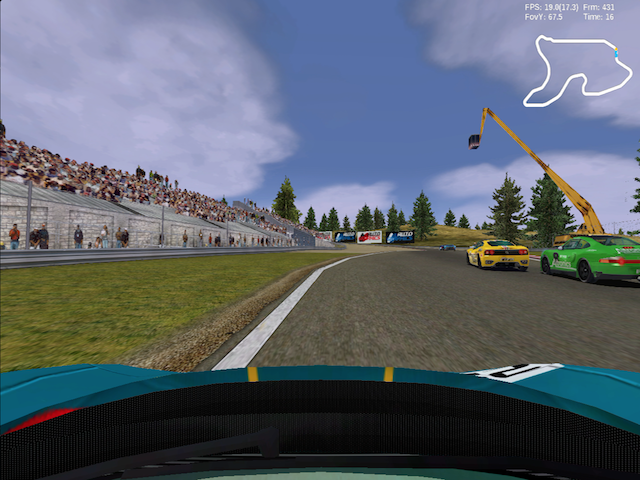Boxer96: (540, 235, 640, 283)
Cavallo360: (464, 239, 530, 272)
